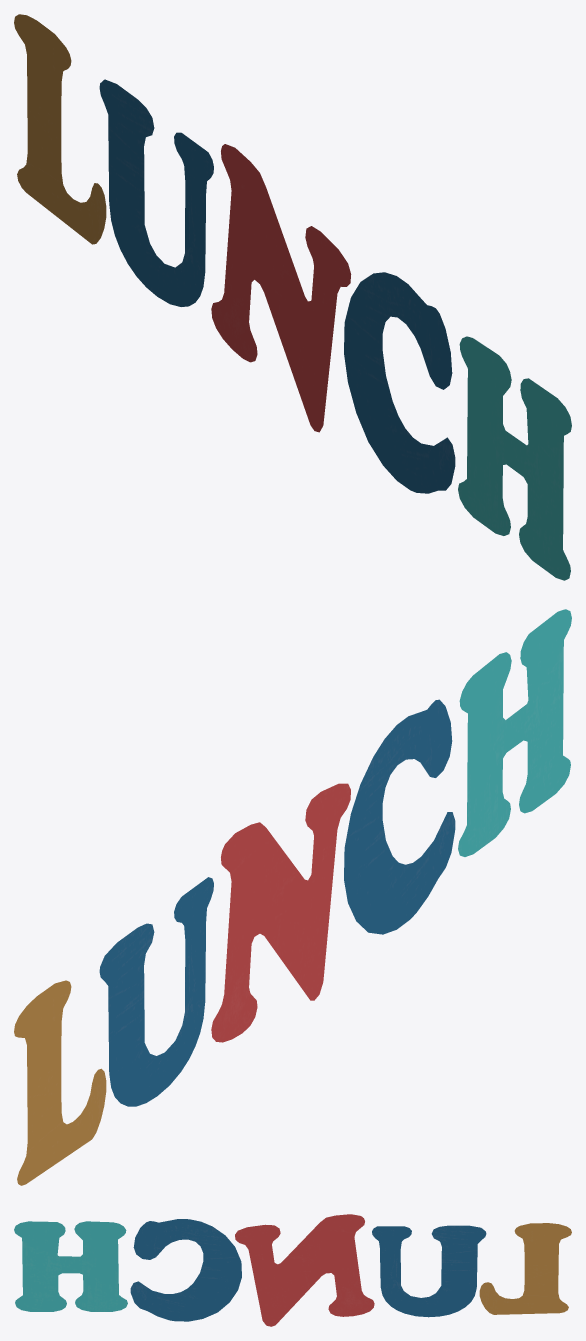
Rendered from SM_Hanging_Letters_Lunch_01a.fbx.
The picture shows the model from 3 angles, top to bottom: view 1: azimuth 30°, elevation 25°; view 2: azimuth 150°, elevation 25°; view 3: azimuth 270°, elevation 25°; orthographic projection. The views are drawn at different scales.
Parts seen in each view (by area): view 1: SM_Hanging_Letters_Lunch_01a_LOD0; view 2: SM_Hanging_Letters_Lunch_01a_LOD0; view 3: SM_Hanging_Letters_Lunch_01a_LOD0.
Boxes of the visible parts, x1,y1,x2,y2 form: SM_Hanging_Letters_Lunch_01a_LOD0: [14, 14, 571, 580]; SM_Hanging_Letters_Lunch_01a_LOD0: [14, 609, 571, 1185]; SM_Hanging_Letters_Lunch_01a_LOD0: [14, 1214, 571, 1326].
Bounding box in the file's own units: 0.000141 × 22.03 × 4.91.
Materials: 1 (1 with a texture image).
